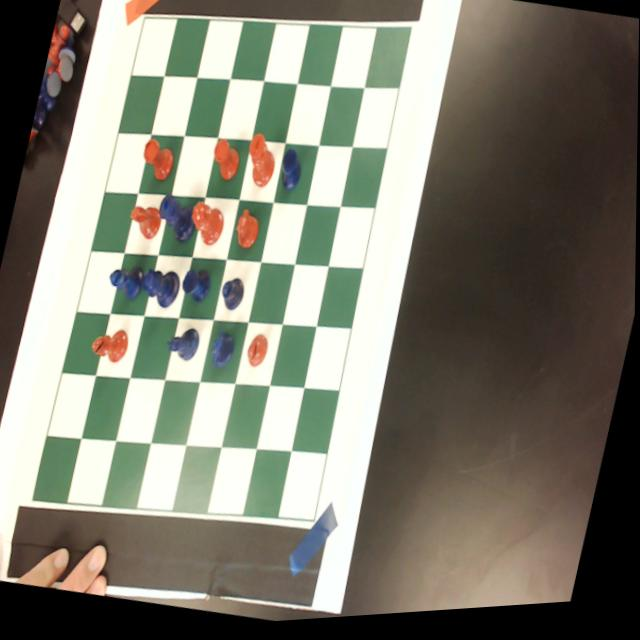B: (105, 259, 146, 304), (217, 276, 249, 316)
K: (152, 193, 201, 251)
N: (162, 322, 203, 366), (206, 328, 240, 375)
Q: (137, 264, 185, 313)
R: (275, 148, 308, 198), (178, 266, 215, 308)
b: (88, 323, 134, 369), (244, 332, 272, 374)
k: (241, 135, 281, 194)
n: (123, 201, 166, 245), (230, 207, 265, 259)
q: (185, 199, 230, 253)
r: (138, 136, 179, 186), (207, 138, 245, 188)
